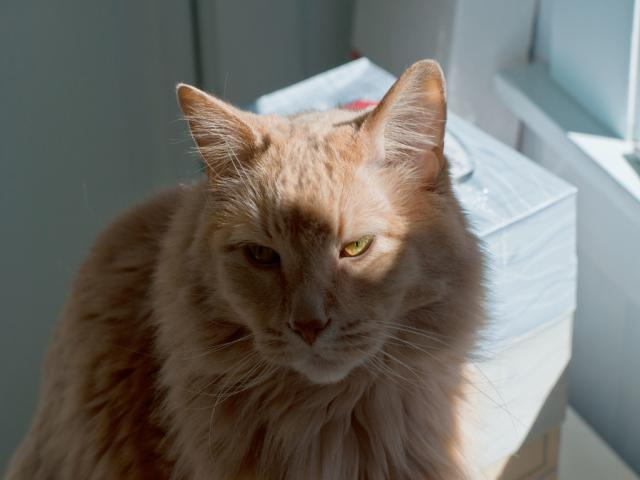Cat: (0, 56, 544, 479)
